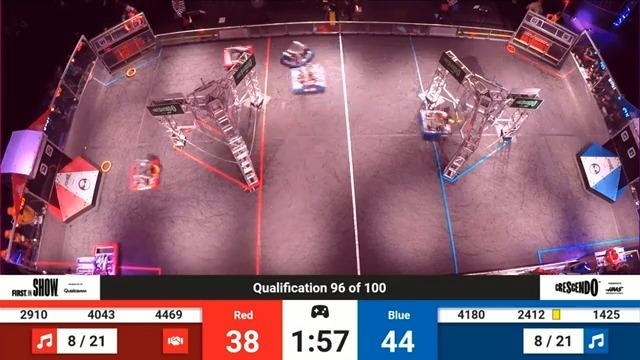robot: (71, 236, 129, 278), (287, 61, 336, 103), (120, 157, 170, 196), (279, 31, 325, 72), (416, 106, 465, 142), (217, 44, 262, 70)
